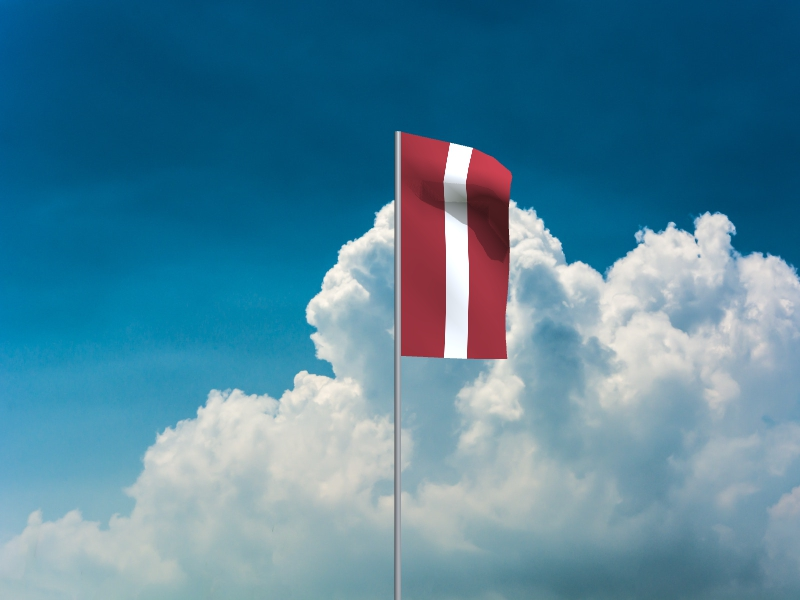lv: (402, 133, 514, 361)
